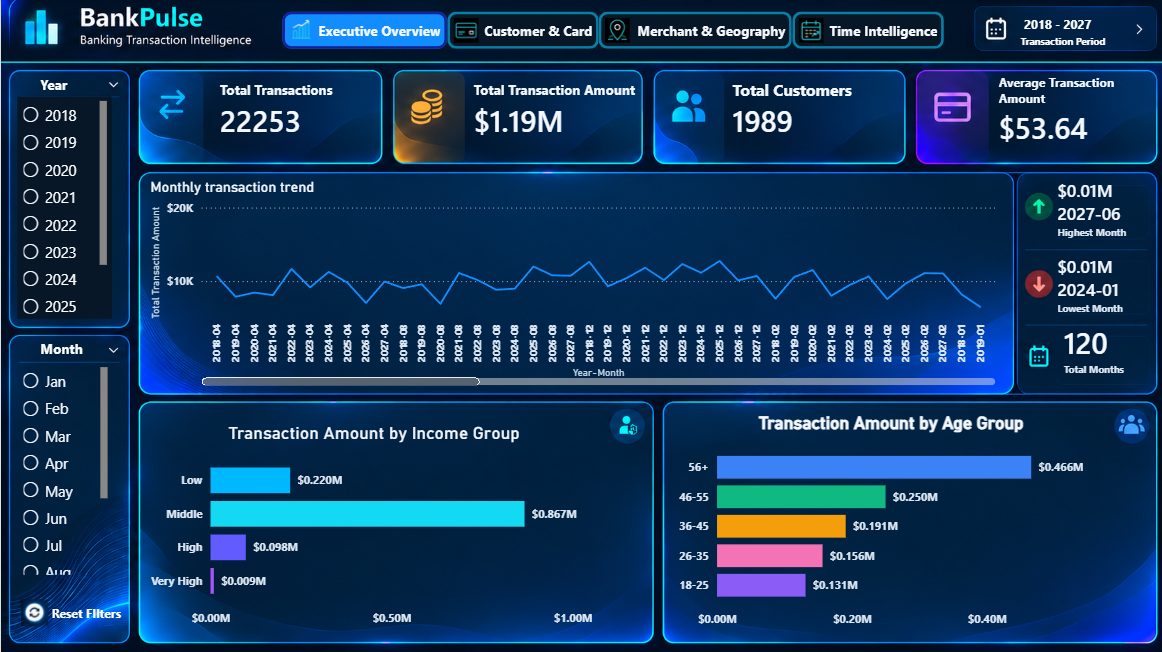

What the dashboard file says about the page in this screenshot:
{"tool":"powerbi","page":{"name":"Customer & Transaction Overview","canvas":[1280,720],"ordinal":0},"visuals":[{"type":"actionButton","box":[308.8,13.3,181,41],"z":0},{"type":"actionButton","box":[489.8,13.3,166.5,41],"z":1000},{"type":"actionButton","box":[656.3,13.3,212.3,41],"z":2000},{"type":"actionButton","box":[868.6,13.3,166.5,41],"z":3000},{"type":"listSlicer","fields":{"Values":["Calendar.Month"]},"box":[17.8,399.3,104.3,238.8],"z":4000},{"type":"listSlicer","fields":{"Values":["Calendar.Year"]},"box":[18.1,107.4,103.8,243.7],"z":5000},{"type":"textbox","box":[38.6,369.2,66.4,30.2],"z":6000},{"type":"textbox","box":[38.6,79.6,66.4,42.2],"z":7000},{"type":"cardVisual","fields":{"Data":["Measures (2).Total Transactions"]},"box":[211.1,61.5,217.2,121.9],"z":8000},{"type":"cardVisual","fields":{"Data":["Measures (2).Total Transaction Amount"]},"box":[489.8,61.5,299.2,120.6],"z":9000},{"type":"cardVisual","fields":{"Data":["Measures (2).Total Customers"]},"box":[774.5,60.3,224.4,121.9],"z":10000},{"type":"cardVisual","title":"Average","fields":{"Data":["Measures (2).Average Transaction Amount"]},"box":[1066.5,61.5,189.4,121.9],"z":11000},{"type":"areaChart","title":"Monthly transaction trend ","fields":{"Category":["Calendar.Year-Month"],"Y":["Measures (2).Total Transaction Amount"]},"box":[159.3,197.9,937.4,231.6],"z":12000},{"type":"clusteredBarChart","title":"Transaction Amount by Income Group","fields":{"Category":["users_data.Income Group"],"Y":["Measures (2).Total Transaction Amount"]},"box":[159.3,465.7,500.7,232.8],"z":13000},{"type":"clusteredBarChart","title":"Transaction Amount by Age Group","fields":{"Category":["users_data.Age Group"],"Y":["Measures (2).Total Transaction Amount"]},"box":[738.3,453.6,477.8,244.9],"z":14000},{"type":"textbox","box":[1114.8,13.3,139.9,47.1],"z":15000},{"type":"cardVisual","fields":{"Data":["Calendar.Highest Month"]},"box":[1130.4,164.1,139.9,130.3],"z":16000},{"type":"cardVisual","fields":{"Data":["Calendar.Lowest Month"]},"box":[1130.4,246.1,139.9,135.1],"z":17000},{"type":"cardVisual","fields":{"Data":["Calendar.Total Months Display"]},"box":[1137.7,310.1,125.5,149.6],"z":18000},{"type":"actionButton","box":[4.1,649.1,133.9,49.5],"z":19000}]}

Visuals, with their boxes in screenshot pixels (x1, y1, x2, y2), scaled from the page's 1280x720 canvas onto the 1162x652 screenshot:
actionButton: (left=280, top=12, right=445, bottom=49)
actionButton: (left=445, top=12, right=596, bottom=49)
actionButton: (left=596, top=12, right=789, bottom=49)
actionButton: (left=789, top=12, right=940, bottom=49)
listSlicer - Calendar.Month: (left=16, top=362, right=111, bottom=578)
listSlicer - Calendar.Year: (left=16, top=97, right=111, bottom=318)
textbox: (left=35, top=334, right=95, bottom=362)
textbox: (left=35, top=72, right=95, bottom=110)
cardVisual - Measures (2).Total Transactions: (left=192, top=56, right=389, bottom=166)
cardVisual - Measures (2).Total Transaction Amount: (left=445, top=56, right=716, bottom=165)
cardVisual - Measures (2).Total Customers: (left=703, top=55, right=907, bottom=165)
"Average" cardVisual: (left=968, top=56, right=1140, bottom=166)
"Monthly transaction trend " areaChart: (left=145, top=179, right=996, bottom=389)
"Transaction Amount by Income Group" clusteredBarChart: (left=145, top=422, right=599, bottom=633)
"Transaction Amount by Age Group" clusteredBarChart: (left=670, top=411, right=1104, bottom=633)
textbox: (left=1012, top=12, right=1139, bottom=55)
cardVisual - Calendar.Highest Month: (left=1026, top=149, right=1153, bottom=267)
cardVisual - Calendar.Lowest Month: (left=1026, top=223, right=1153, bottom=345)
cardVisual - Calendar.Total Months Display: (left=1033, top=281, right=1147, bottom=416)
actionButton: (left=4, top=588, right=125, bottom=633)
